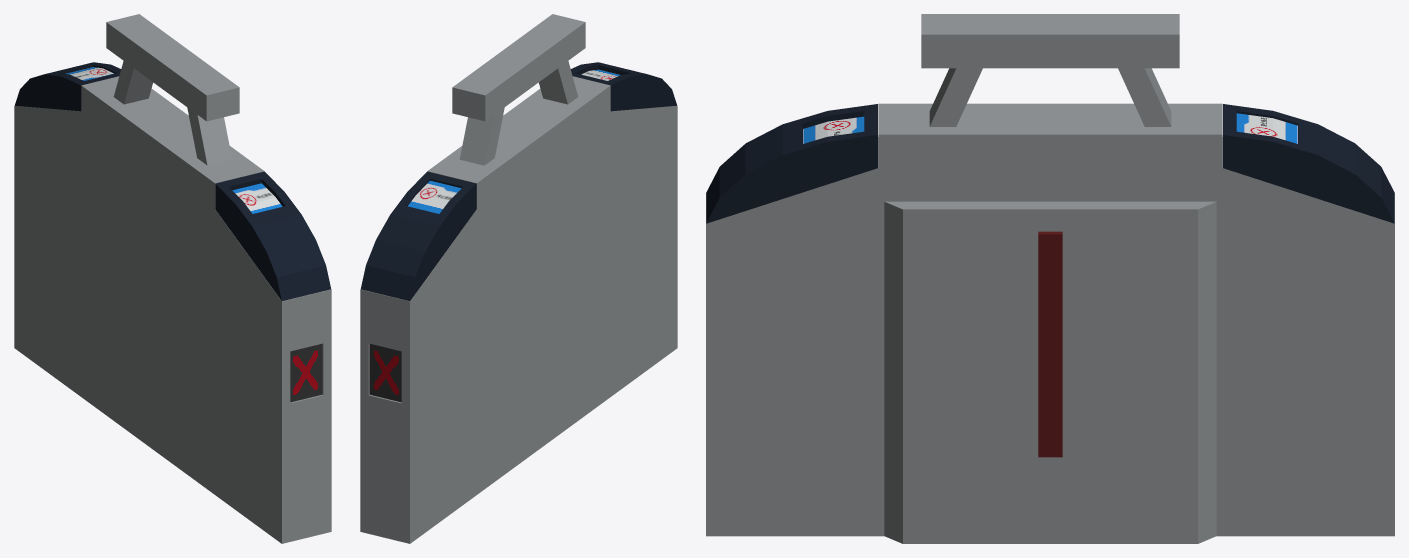
The model's file is beijing_1_wide_l.obj.
3 views of the same model, side by side, from view 1: azimuth 30°, elevation 25°; view 2: azimuth 150°, elevation 25°; view 3: azimuth 270°, elevation 25° (orthographic). The views are drawn at different scales.
Parts seen in each view (by area): view 1: left; view 2: left; view 3: left.
Part boxes in pixels (box(x1,y1,x2,y2)): left: box(14, 14, 331, 543); left: box(360, 14, 677, 543); left: box(706, 14, 1394, 543).
Size of the model in its own units: 0.25 by 1.39 by 1.75.
Materials: 5 (5 with a texture image).
